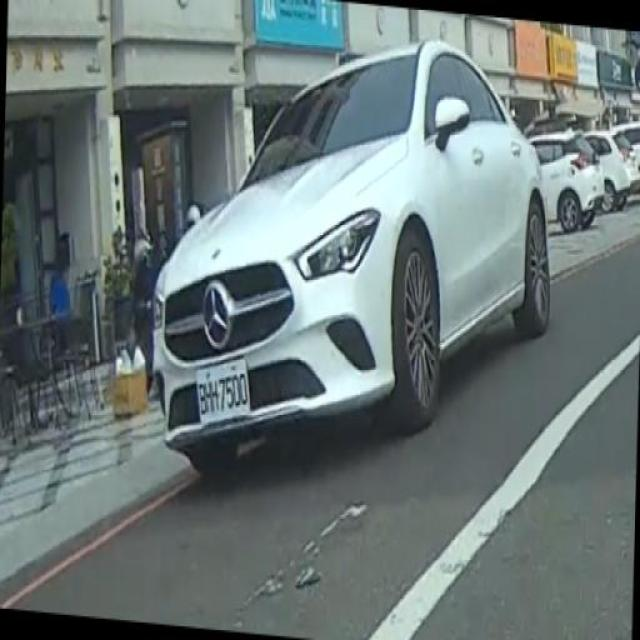Legalparking: (114, 6, 559, 494)
